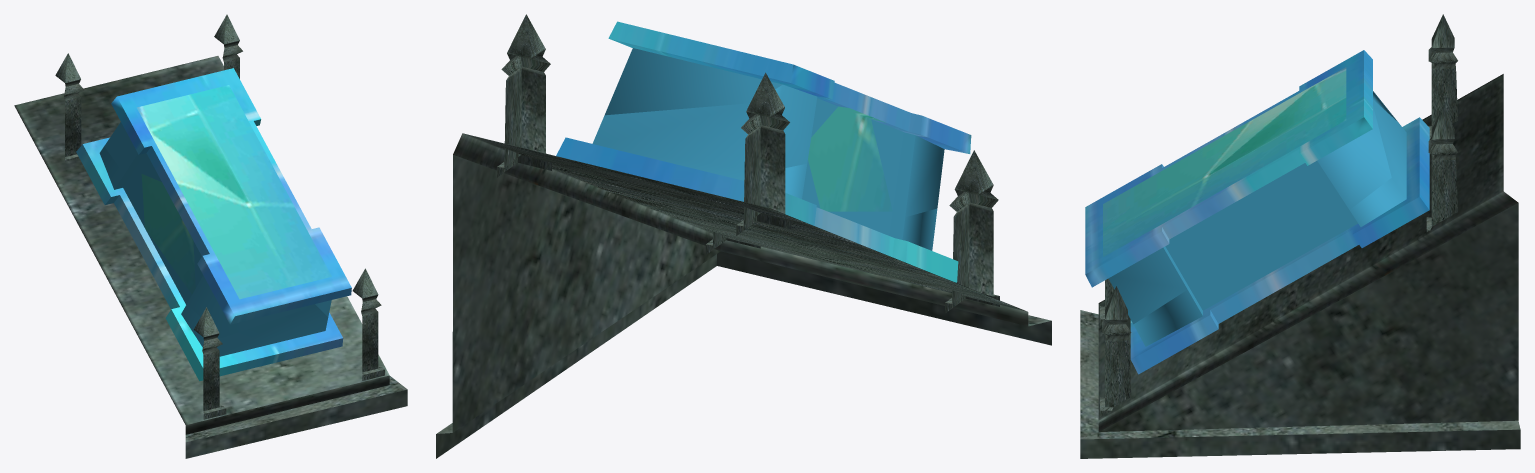
The model's file is xuse_sjg.fbx.
The picture shows the model from 3 angles, left to right: view 1: azimuth 30°, elevation 25°; view 2: azimuth 150°, elevation 25°; view 3: azimuth 270°, elevation 25°; orthographic projection. The views are drawn at different scales.
Visible parts, largest first — view 1: xs_zz, xs_sjg06, xs_sjg05, xs_sjg04, xs_sjg03, xs_sjg01, xs_sjg02; view 2: xs_zz, xs_sjg06, xs_sjg03, xs_sjg05, xs_sjg04, xs_sjg02; view 3: xs_zz, xs_sjg06, xs_sjg03, xs_sjg01, xs_sjg05, xs_sjg04, xs_sjg02.
Boxes of the visible parts, bbox=[...] form: xs_zz: bbox=[14, 14, 407, 458]; xs_sjg06: bbox=[76, 137, 343, 381]; xs_sjg05: bbox=[141, 154, 276, 294]; xs_sjg04: bbox=[187, 223, 315, 337]; xs_sjg03: bbox=[152, 68, 282, 174]; xs_sjg01: bbox=[247, 174, 351, 316]; xs_sjg02: bbox=[104, 88, 197, 187]; xs_zz: bbox=[436, 14, 1051, 458]; xs_sjg06: bbox=[556, 103, 958, 282]; xs_sjg03: bbox=[605, 21, 752, 115]; xs_sjg05: bbox=[808, 89, 892, 211]; xs_sjg04: bbox=[871, 103, 971, 217]; xs_sjg02: bbox=[736, 51, 851, 167]; xs_zz: bbox=[1080, 14, 1520, 458]; xs_sjg06: bbox=[1130, 100, 1429, 374]; xs_sjg03: bbox=[1231, 70, 1391, 232]; xs_sjg01: bbox=[1085, 184, 1286, 324]; xs_sjg05: bbox=[1162, 116, 1278, 189]; xs_sjg04: bbox=[1085, 146, 1200, 246]; xs_sjg02: bbox=[1253, 50, 1398, 122].
Bounding box in the file's own units: 450 × 554 × 653.
